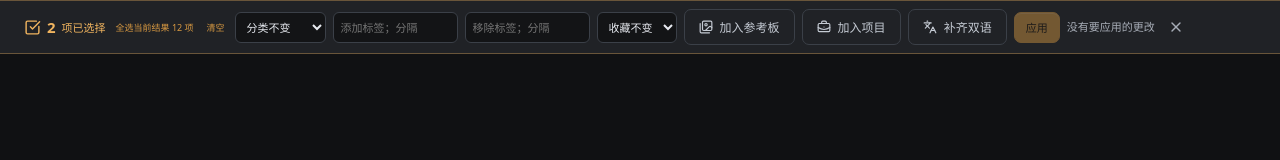
Test: BatchToolbar › does not apply a late identical or error result after the pending controls or selection change
The image size is (1280, 160).
Later steps or results of the test are not shown.
Select "设为收藏" in the dropdown named "批量收藏" at (637, 27), box x1=597 y1=12 x2=677 y2=42
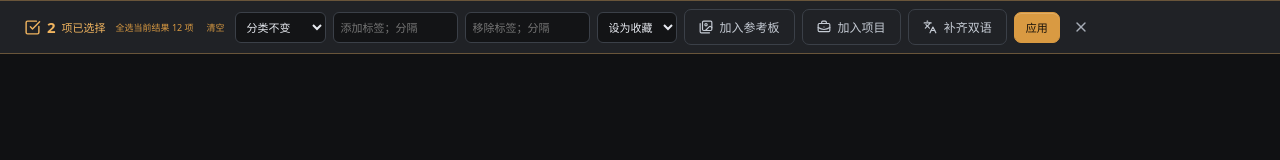
Click the button "应用" at (1037, 27), box x1=1014 y1=12 x2=1060 y2=42
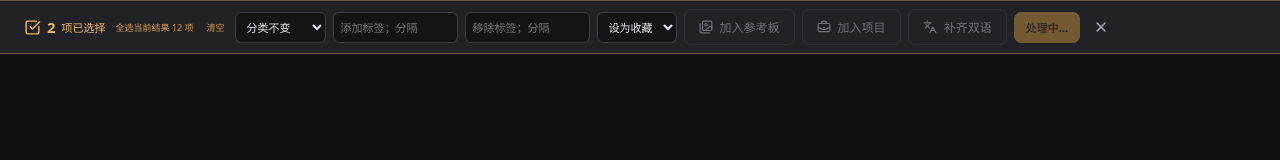
Select "取消收藏" in the dropdown named "批量收藏" at (637, 27), box x1=597 y1=12 x2=677 y2=42
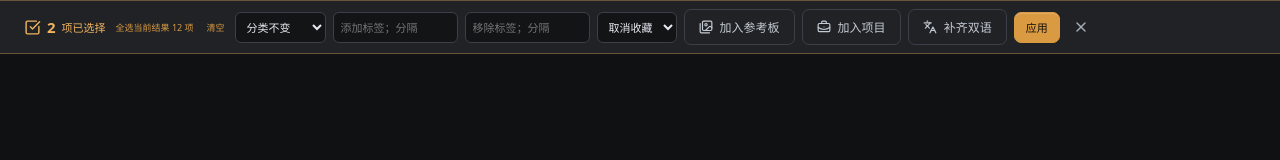
Expected: the button "应用" is enabled, x1=1014 y1=12 x2=1060 y2=42
